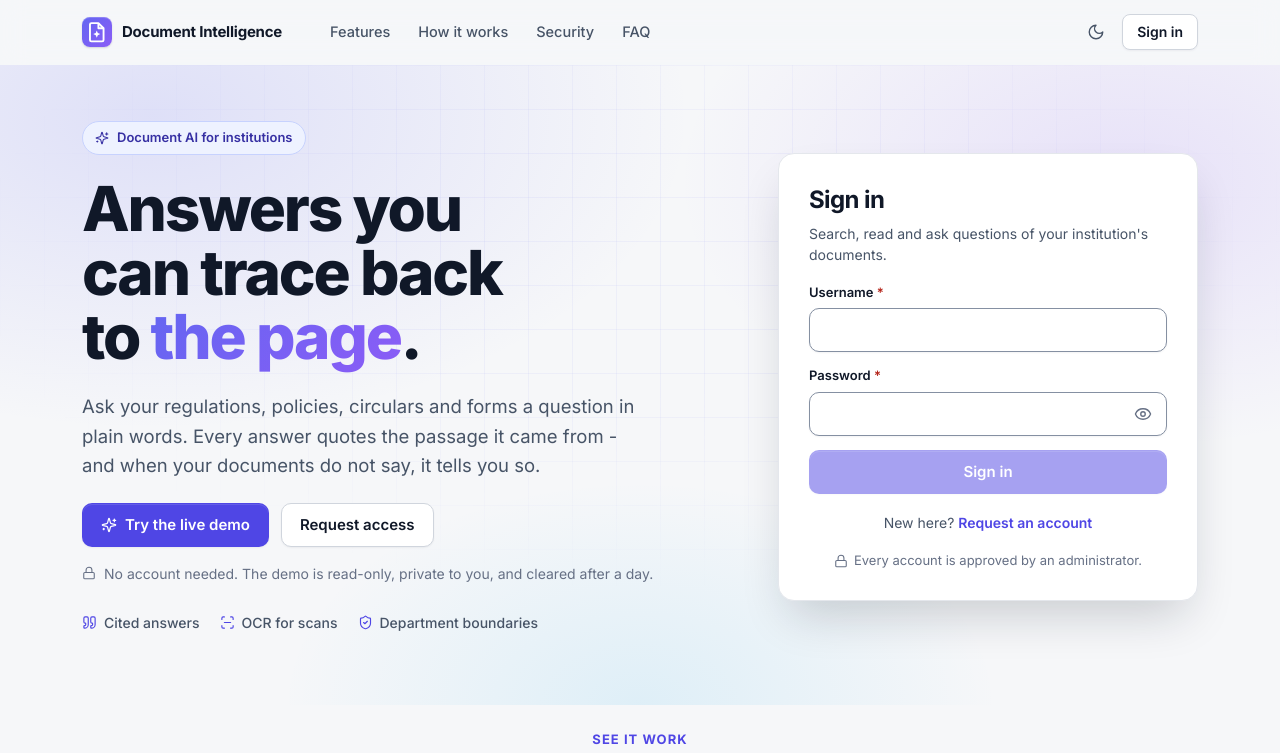
Test case: the landing page › shows and hides the password on request
The image size is (1280, 753).
Type "hunter2-long" into the password field labelled "Password *" at (988, 414), box [809,392,1167,436]
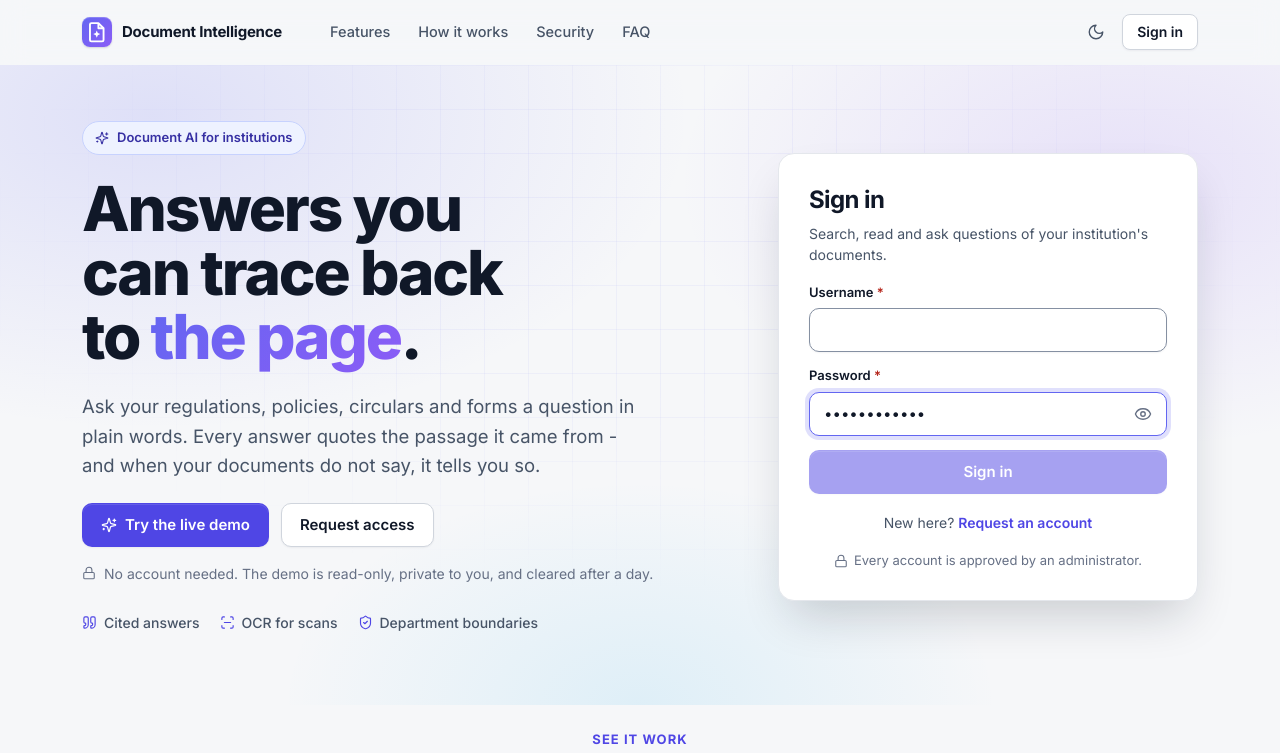
Click the button named "Show password" at (1143, 414), box [1125,396,1161,432]
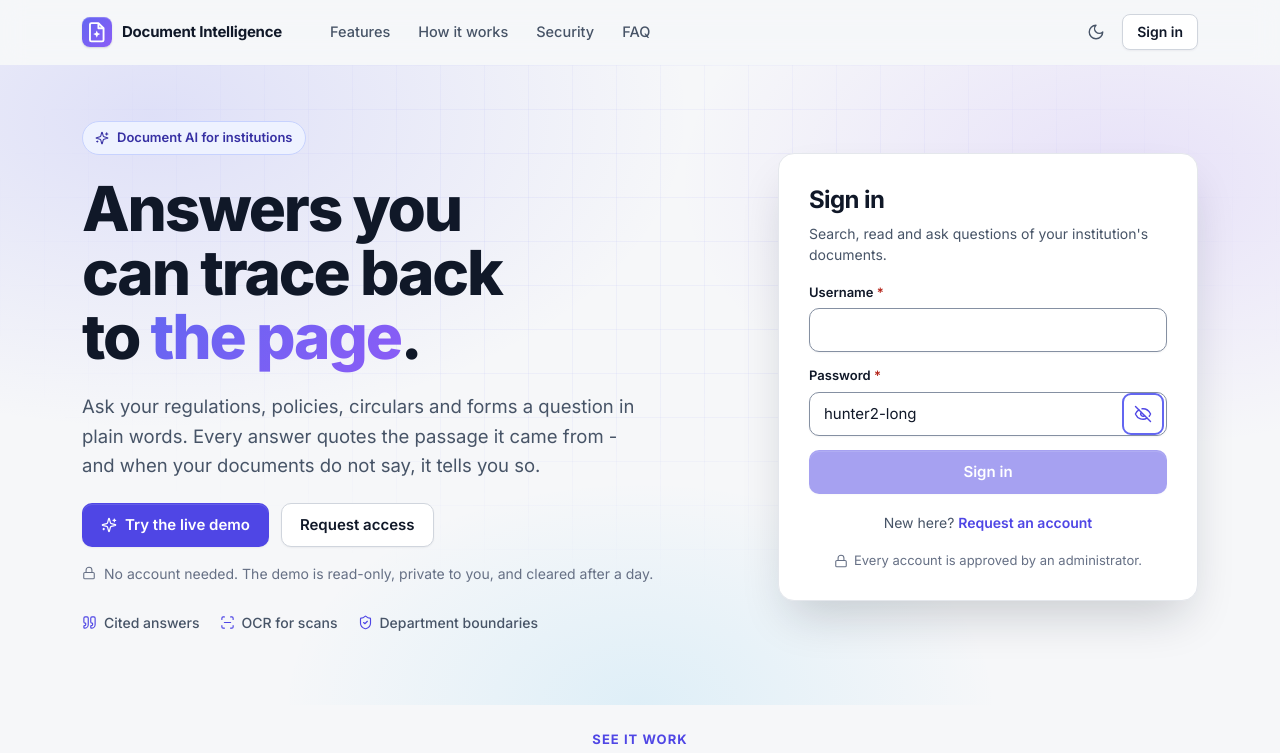
Result: the field labelled "Password *" shows its text at [809,392,1167,436]
Click the button named "Show password" at (1143, 414), box [1125,396,1161,432]
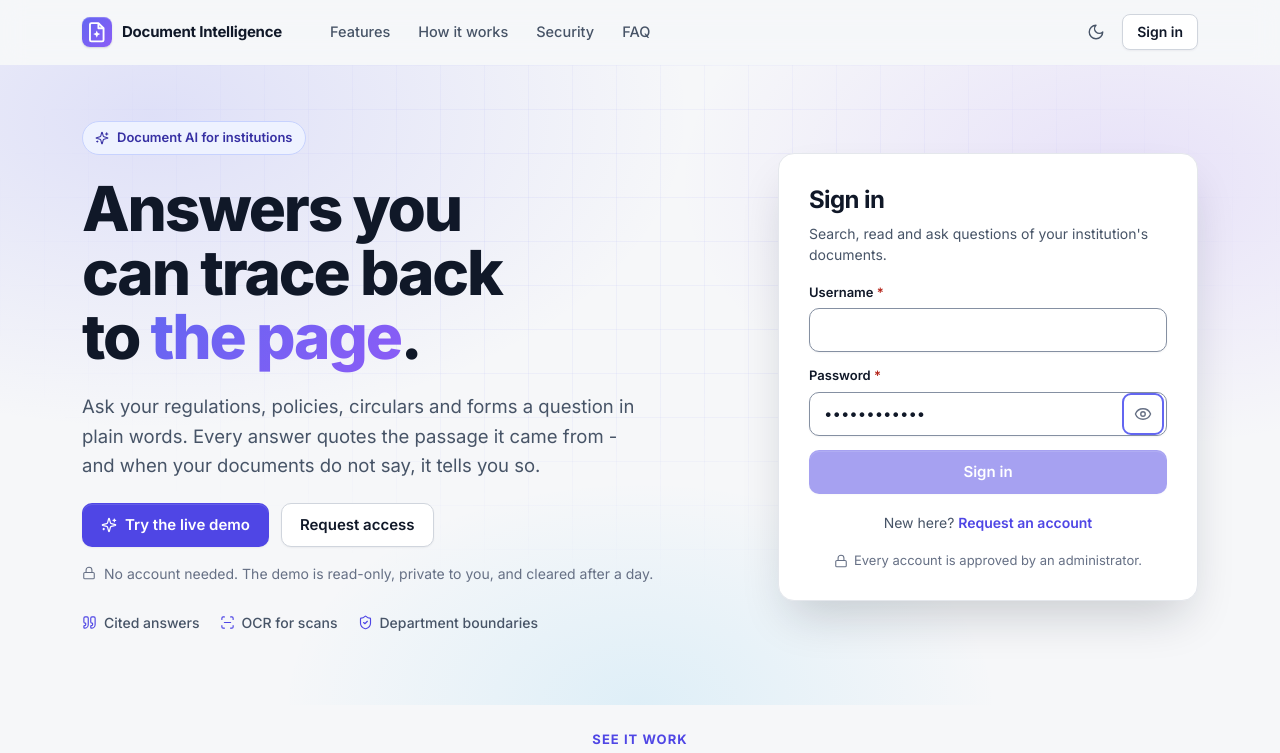
Result: the password field labelled "Password *" hides its text at [809,392,1167,436]
